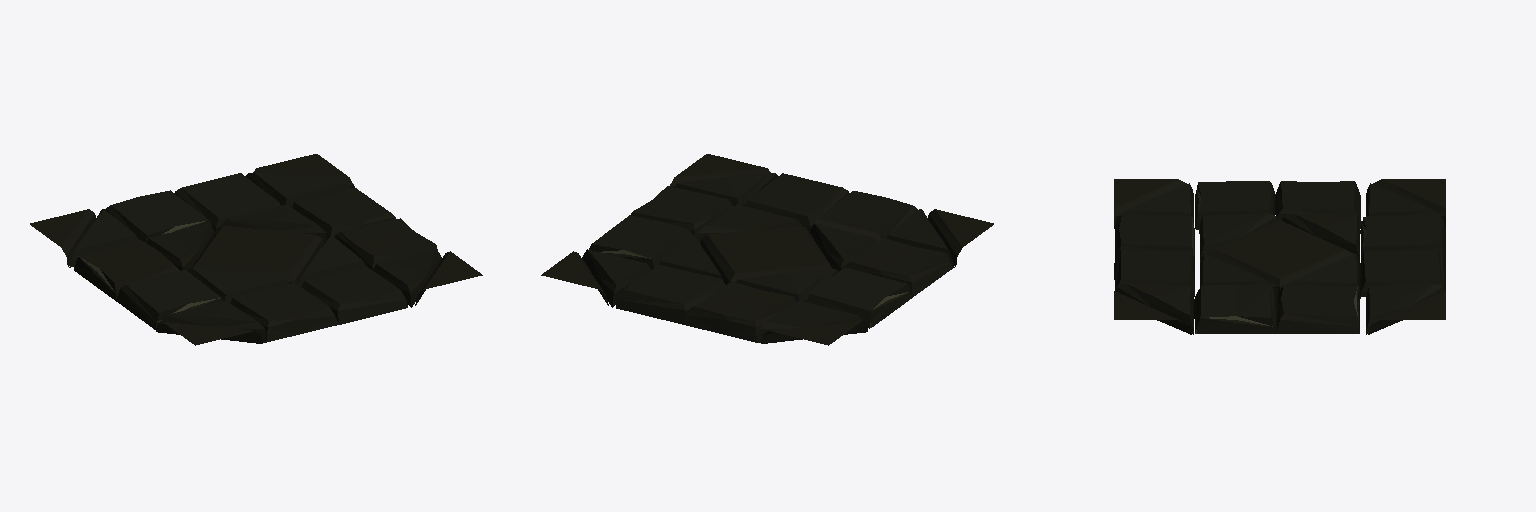
The model's file is Floor_Diamond.obj.
3 views of the same model, side by side, from view 1: azimuth 30°, elevation 25°; view 2: azimuth 150°, elevation 25°; view 3: azimuth 270°, elevation 25° (orthographic).
Visible parts, largest first — view 1: Floor_Diamond; view 2: Floor_Diamond; view 3: Floor_Diamond.
Boxes of the visible parts, <box> form: Floor_Diamond: <box>30,154,482,345</box>; Floor_Diamond: <box>541,154,993,345</box>; Floor_Diamond: <box>1114,179,1445,334</box>.
Size of the model in its own units: 2 by 0.1183 by 2.